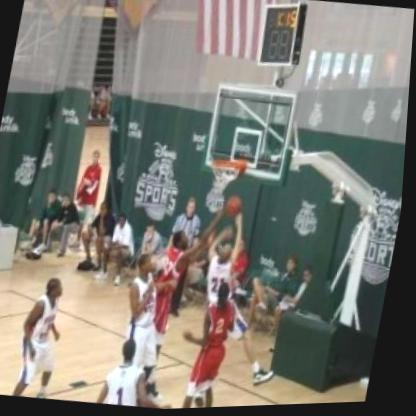basketball: (224, 194, 247, 222)
